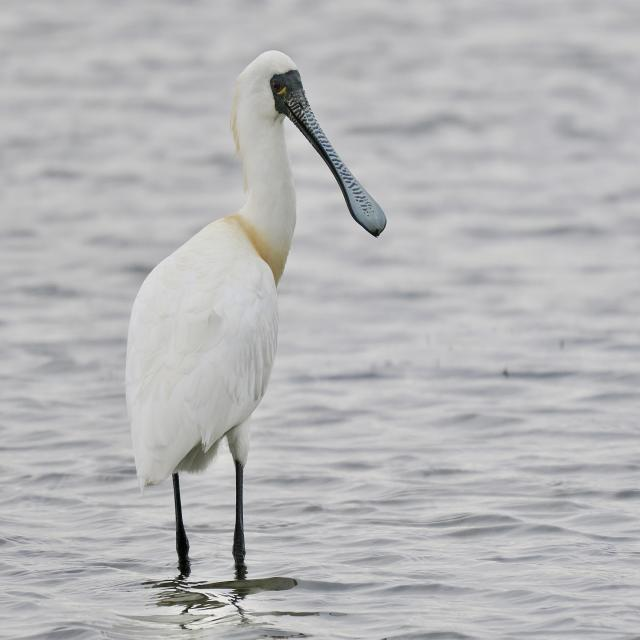Black-faced spoonbill: (126, 51, 385, 572)
